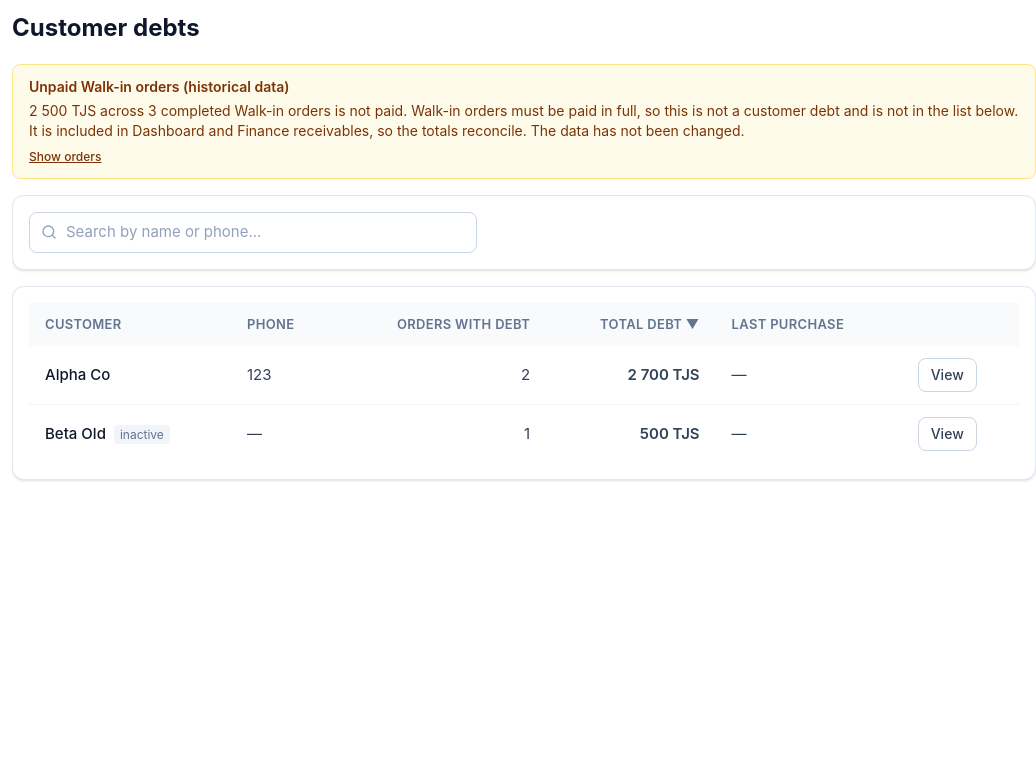
it: DebtsPage › shows walk-in banner separately and lets Admin expand read-only exceptions
Check: the text "Unpaid Walk-in orders (historical data)" is shown, box [29,78,290,95]
Check: the text "2 500 TJS" is shown, box [29,102,1018,139]
What coordinates should you click on to do the following:
click the button "Show orders"
I would click on:
 (65, 157)
Its box is [29,149,101,165].
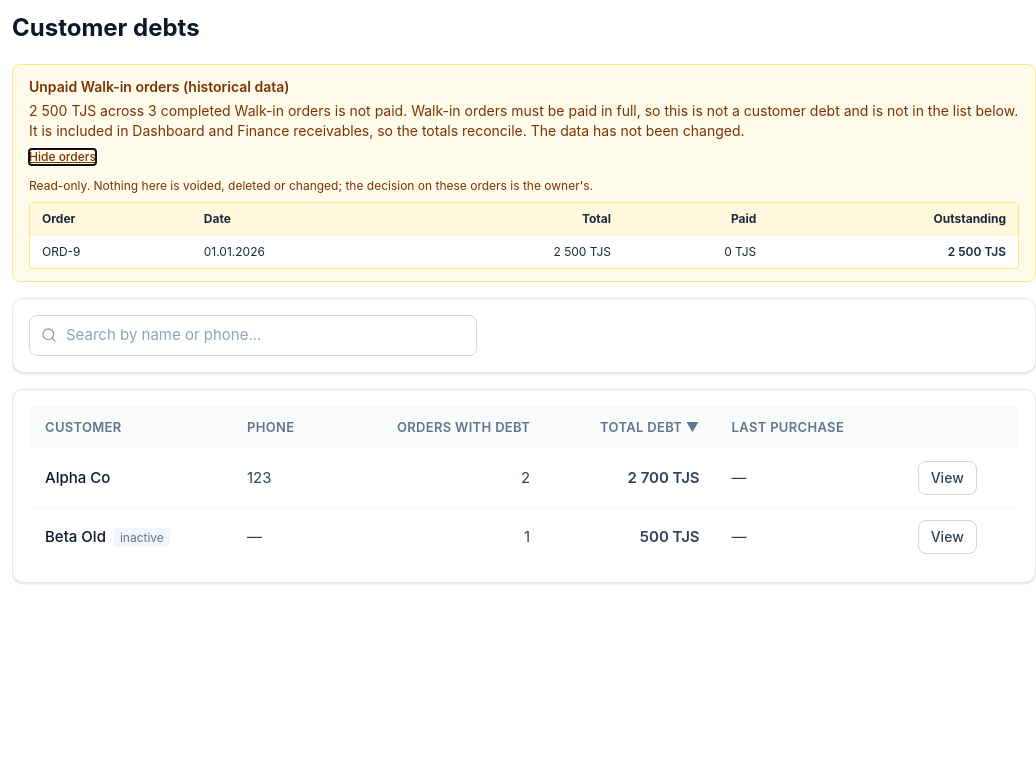
Check: the text "ORD-9" is shown, box [30,236,192,268]
Check: the text "Read-only. Nothing here is voided, deleted or changed; the decision on these orders is the owner's." is shown, box [29,178,593,193]
